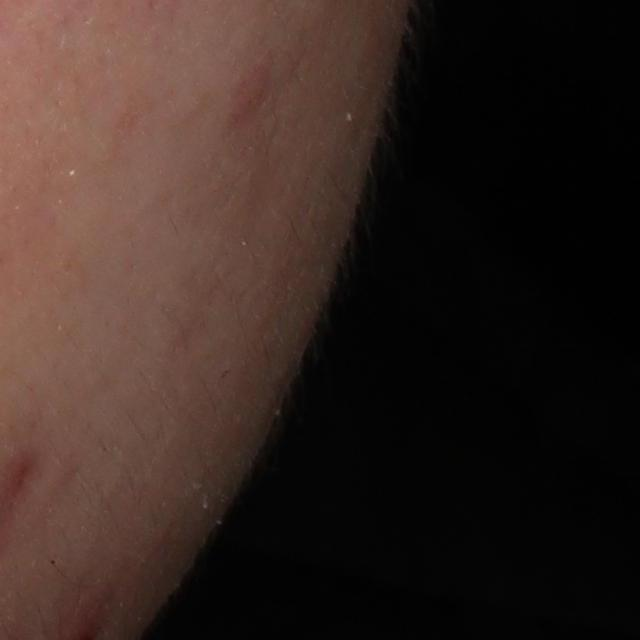papule: (230, 57, 275, 121)
